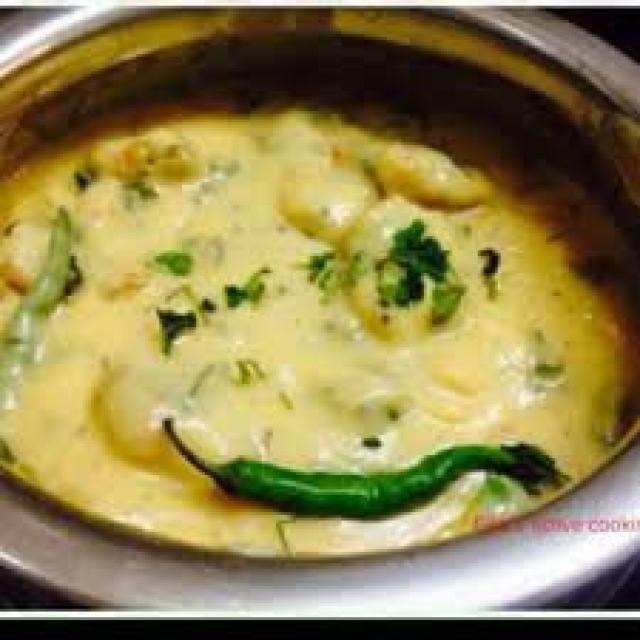Kadhi Pakora: (0, 100, 640, 550)
